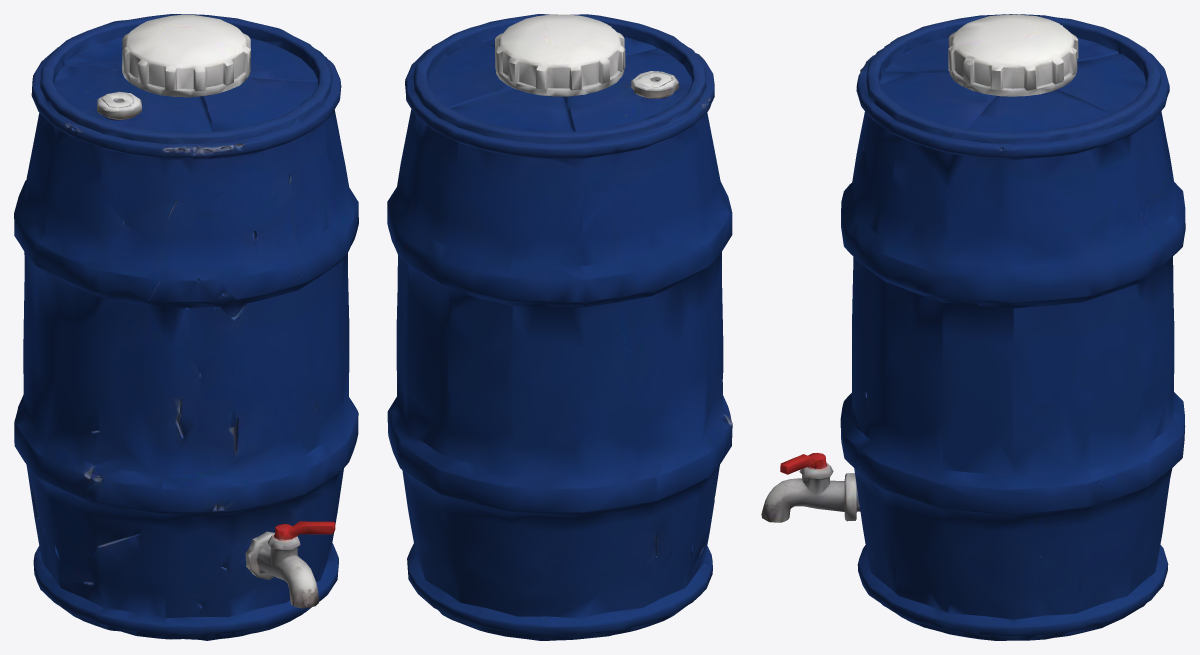
Rendered from barrel_water_plastikovaya_200_l_idle.glb.
3 views of the same model, side by side, from view 1: azimuth 30°, elevation 25°; view 2: azimuth 150°, elevation 25°; view 3: azimuth 270°, elevation 25° (orthographic).
Visible parts, largest first — view 1: tripo_node_f53bc923-1417-479d-ab7a-6c7e7c0685aa; view 2: tripo_node_f53bc923-1417-479d-ab7a-6c7e7c0685aa; view 3: tripo_node_f53bc923-1417-479d-ab7a-6c7e7c0685aa.
Part boxes in pixels (x1,y1,x2,y2): tripo_node_f53bc923-1417-479d-ab7a-6c7e7c0685aa: (14, 14, 358, 640); tripo_node_f53bc923-1417-479d-ab7a-6c7e7c0685aa: (387, 14, 732, 640); tripo_node_f53bc923-1417-479d-ab7a-6c7e7c0685aa: (761, 14, 1185, 640).
Bounding box in the file's own units: 0.5139 × 0.8999 × 0.6298.
Materials: 1 (1 with a texture image).
